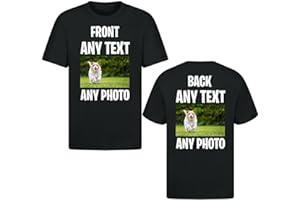design: (77, 23, 131, 102), (173, 73, 227, 150)
